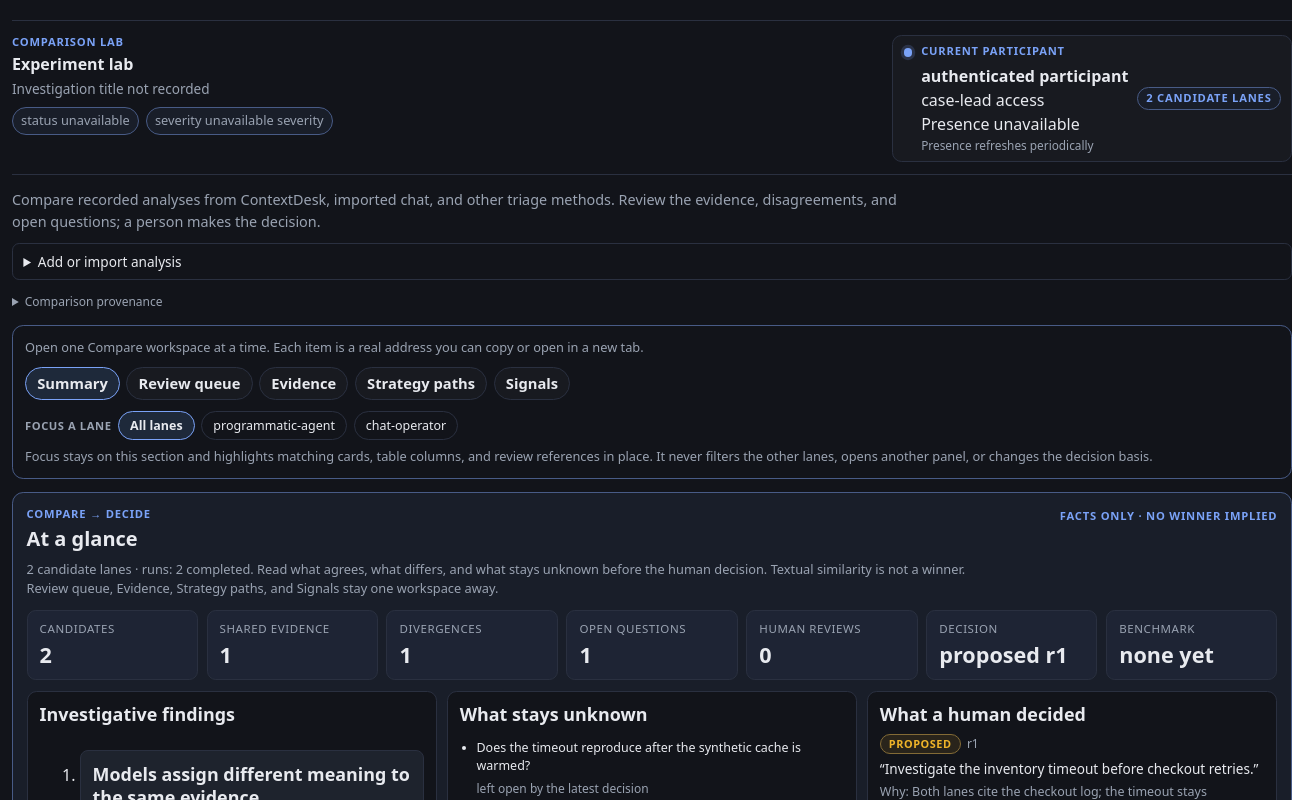
Scenario: experiment lab › summarises agreement, difference, unknowns, and the decision before advanced tools
expect the heading "Investigative findings" is shown: met, box [40,702,235,726]
expect the heading "What stays unknown" is shown: met, box [460,702,648,726]
Click the link "Signals".
click(532, 384)  # box [494,367,570,400]
(page scrolled)
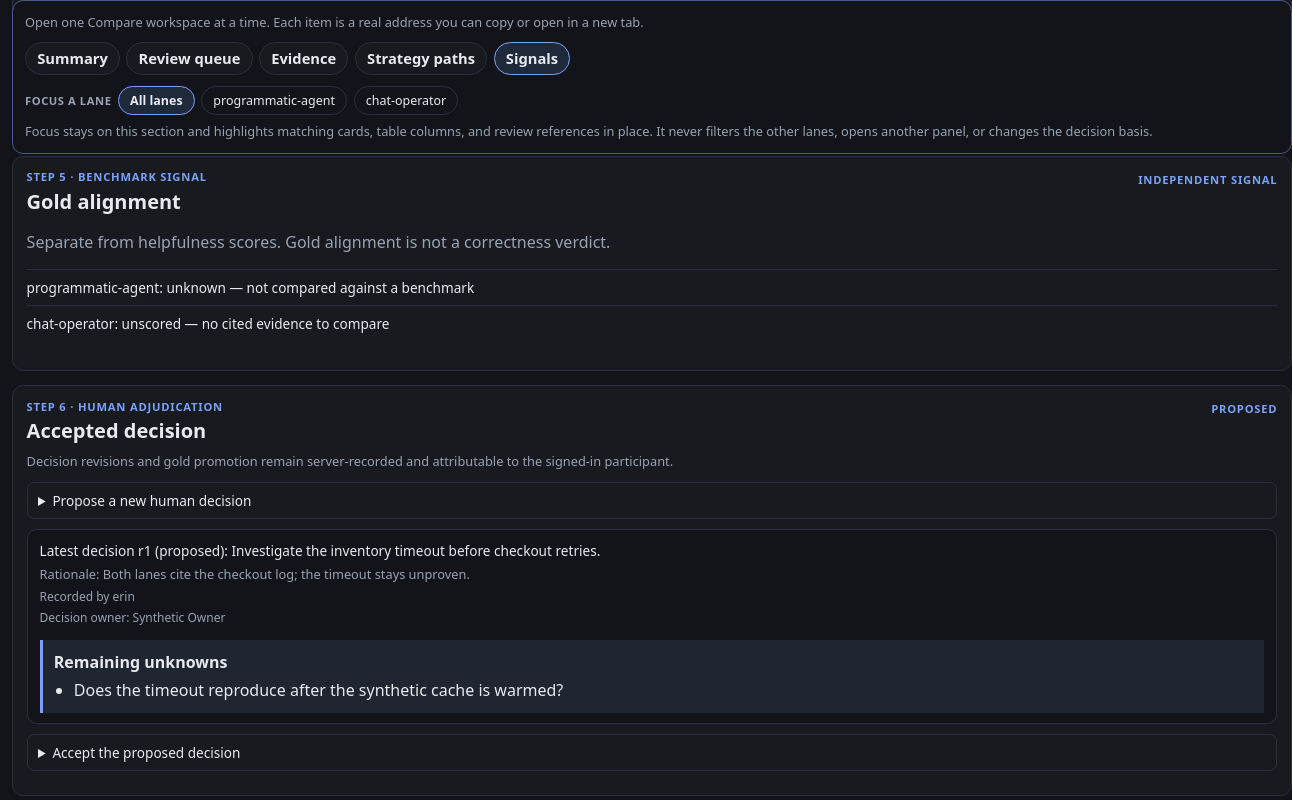
expect the heading "Score candidate helpfulness" is shown: met, box [52,89,231,108]
